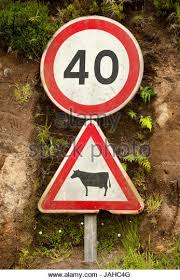Speed_limit_40km: (41, 15, 144, 118)
